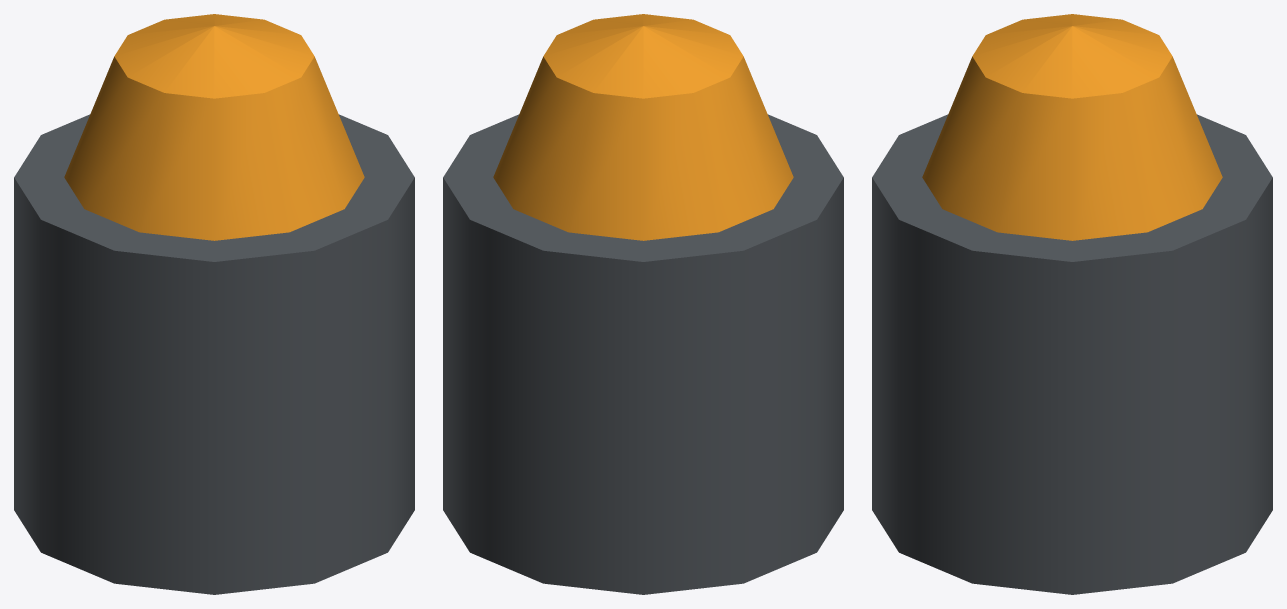
File: ec2_beacon.obj
The picture shows the model from 3 angles, left to right: view 1: azimuth 30°, elevation 25°; view 2: azimuth 150°, elevation 25°; view 3: azimuth 270°, elevation 25°; orthographic projection.
Parts seen in each view (by area): view 1: ec2_beacon; view 2: ec2_beacon; view 3: ec2_beacon.
Part boxes in pixels (x1=…): ec2_beacon: x1=14, y1=14, x2=414, y2=594; ec2_beacon: x1=443, y1=14, x2=843, y2=594; ec2_beacon: x1=872, y1=14, x2=1272, y2=594.
Bounding box in the file's own units: 0.24 × 0.32 × 0.24.
